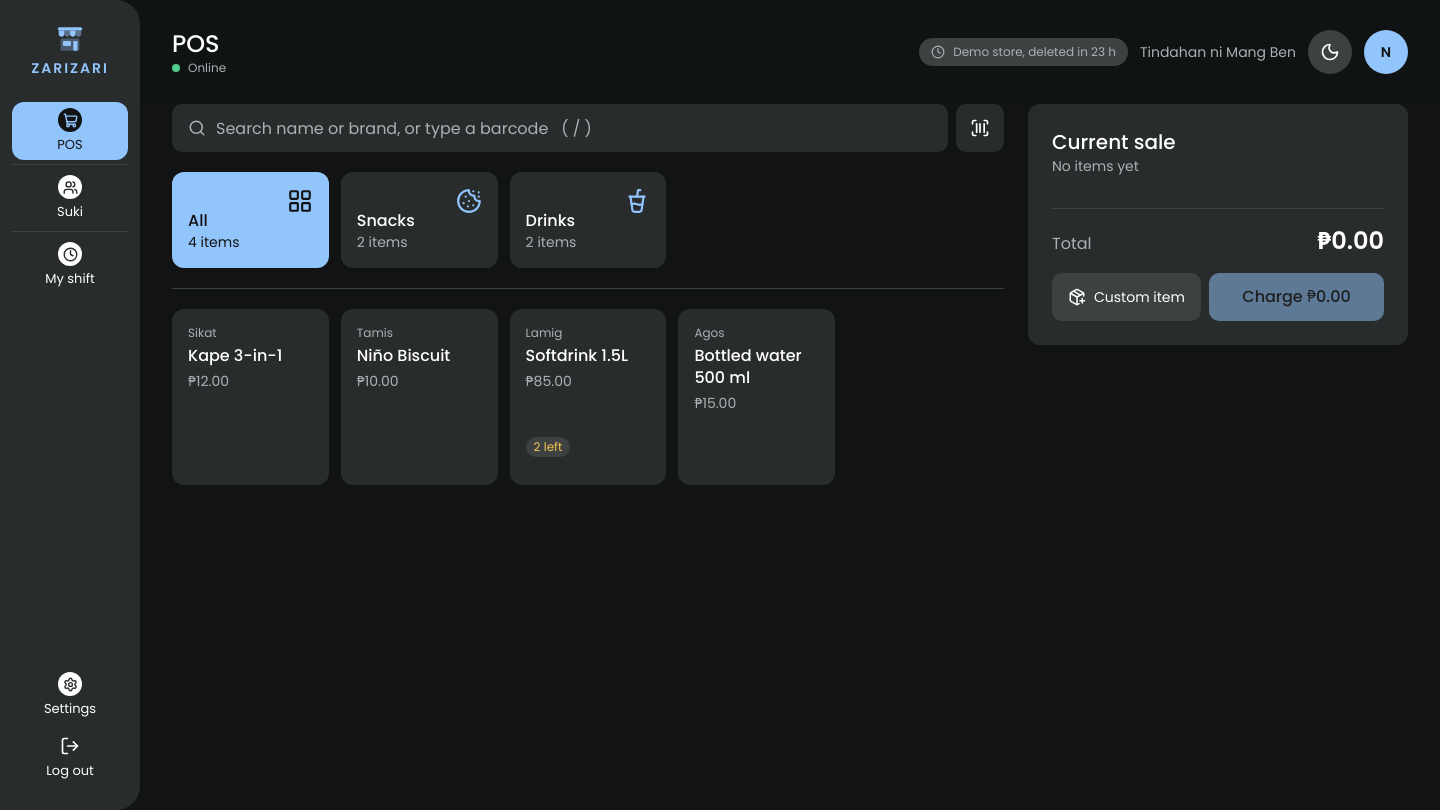
Test: POS screen (spec 10) › adds products from the grid and keeps the total
Step 1. Click the button named "Add Kape 3-in-1" → (250, 369), box [184, 321, 317, 417]
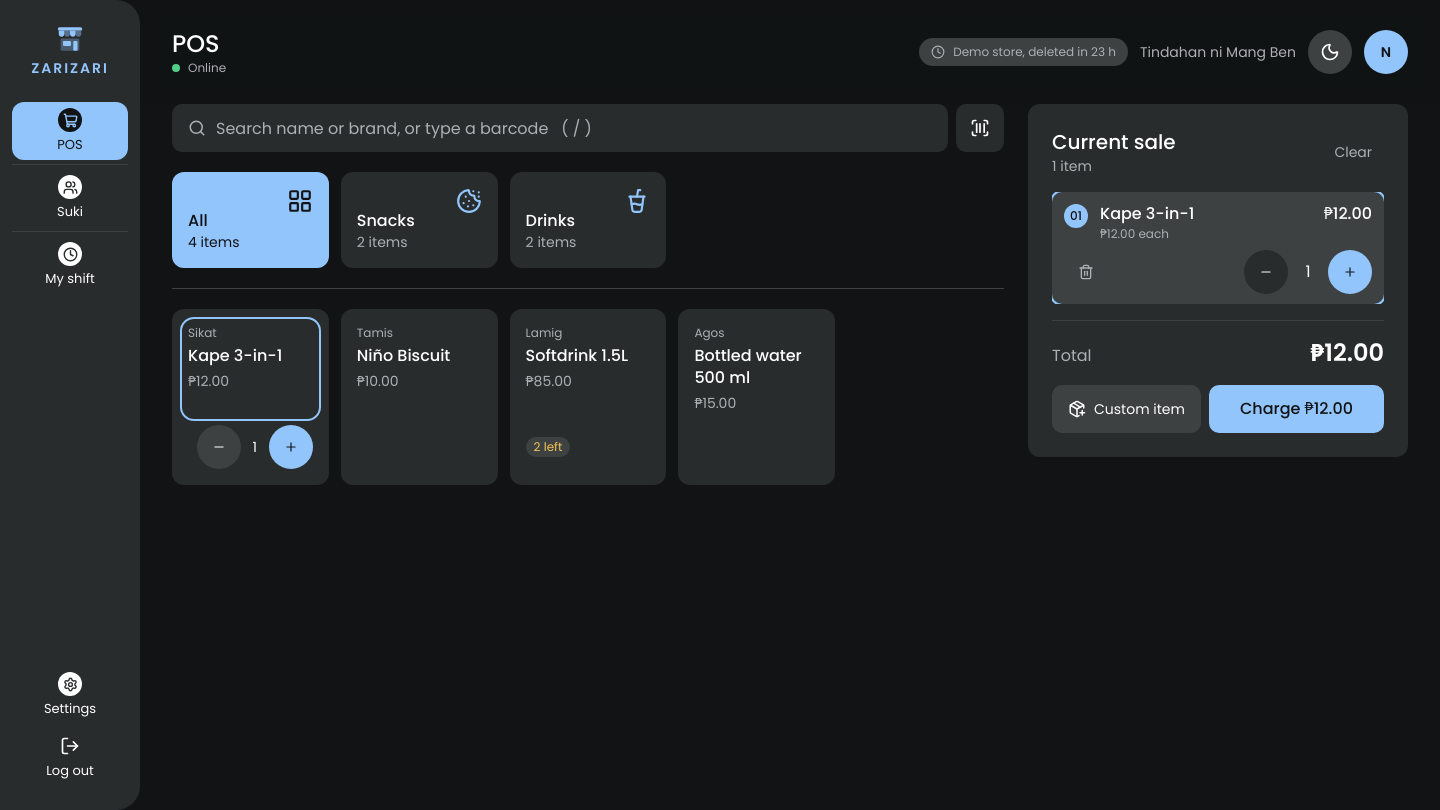
Step 2. Click the button named "Add Kape 3-in-1" → (250, 369), box [184, 321, 317, 417]
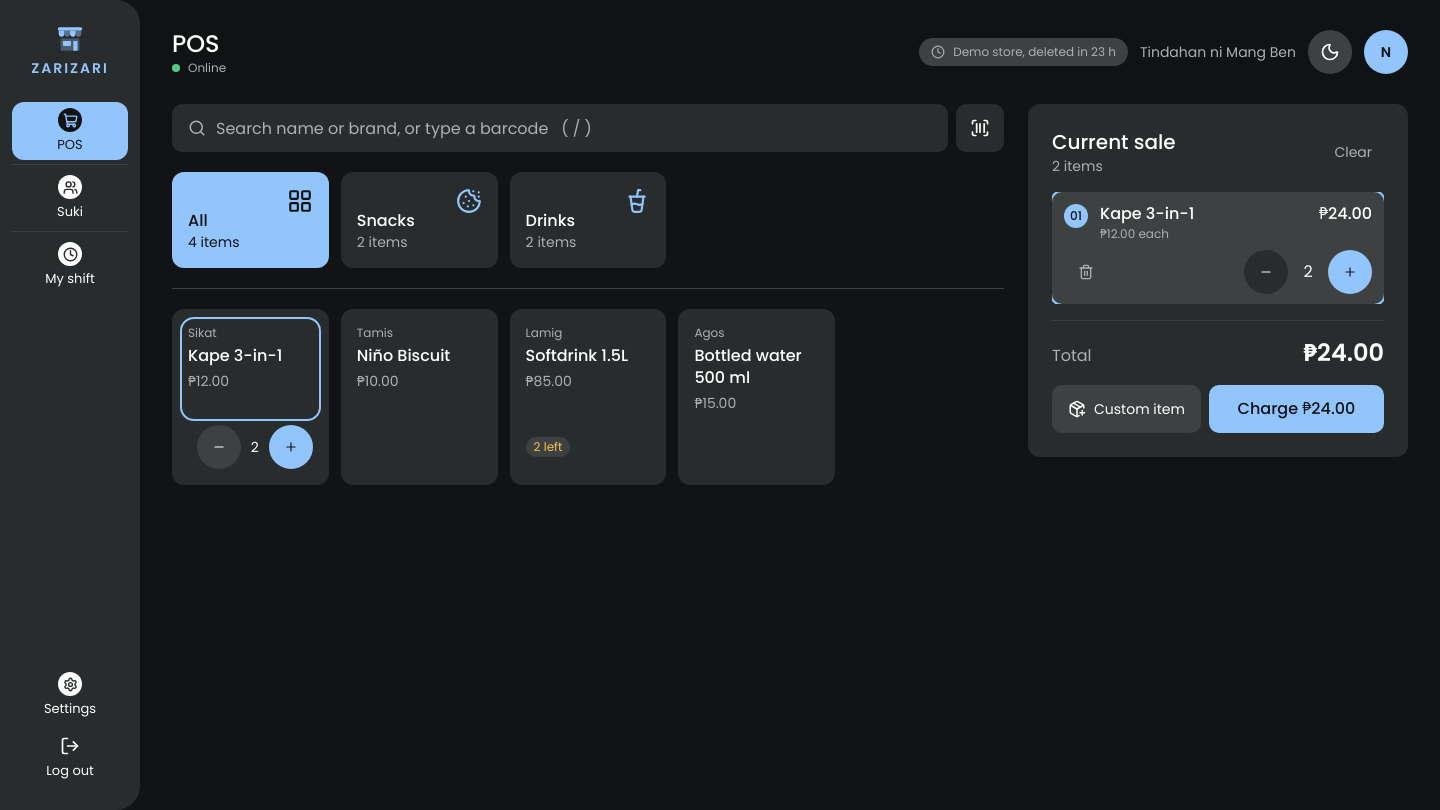
Result: the text "Kape 3-in-1" is shown at [1100, 202, 1194, 225]
Result: the text named "Quantity" reads "2" at [1303, 260, 1313, 283]
